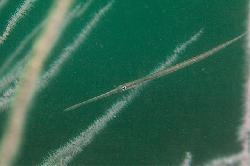Fistularia commersonii: (53, 40, 234, 111)
